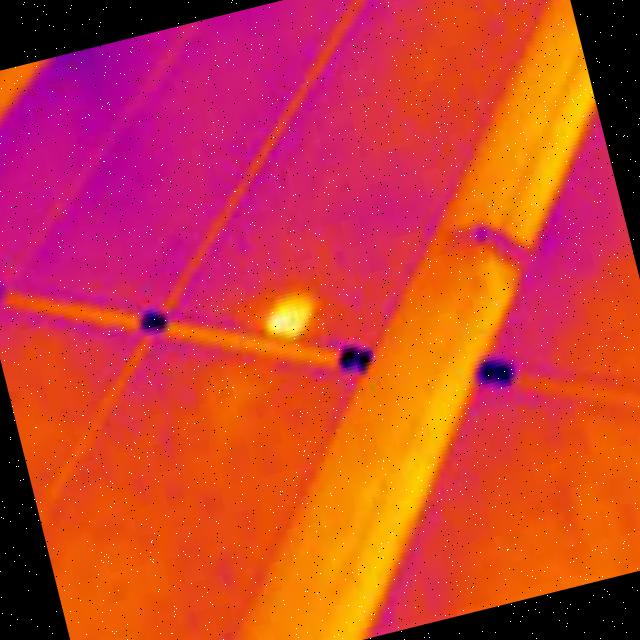Hotspot: (256, 284, 323, 346)
